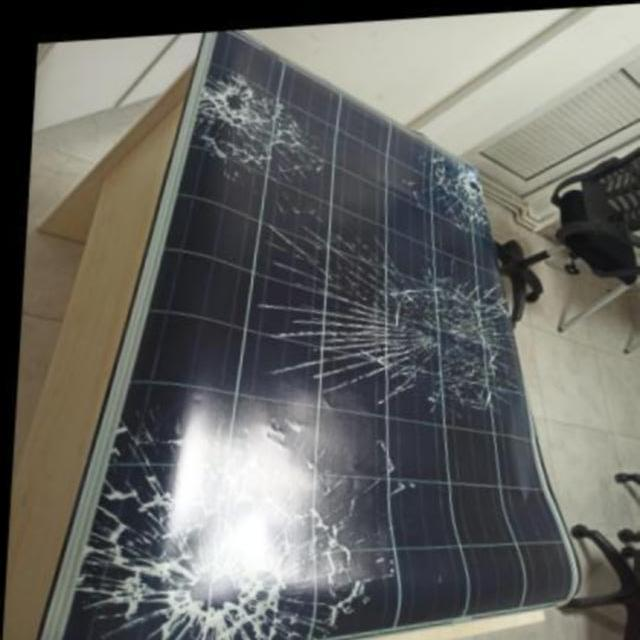cracked: (74, 42, 568, 630)
